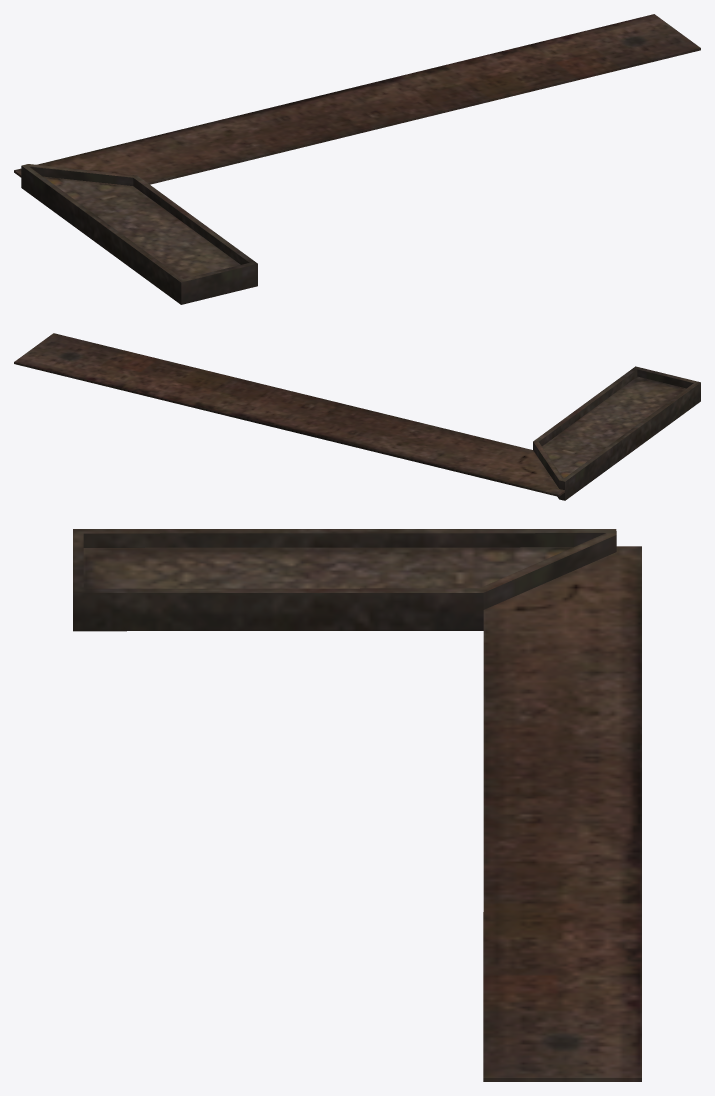
Rendered from misc_tool_mx_1.obj.
3 renders of one model, top to bottom at view 1: azimuth 30°, elevation 25°; view 2: azimuth 150°, elevation 25°; view 3: azimuth 270°, elevation 25°, orthographic. The views are drawn at different scales.
Visible parts, largest first — view 1: misc_tool_mx_1; view 2: misc_tool_mx_1; view 3: misc_tool_mx_1.
Boxes of the visible parts, <box> form: misc_tool_mx_1: <box>14,14,700,304</box>; misc_tool_mx_1: <box>14,333,700,500</box>; misc_tool_mx_1: <box>73,529,641,1081</box>.
Bounding box in the file's own units: 0.5972 × 0.02 × 0.27.
